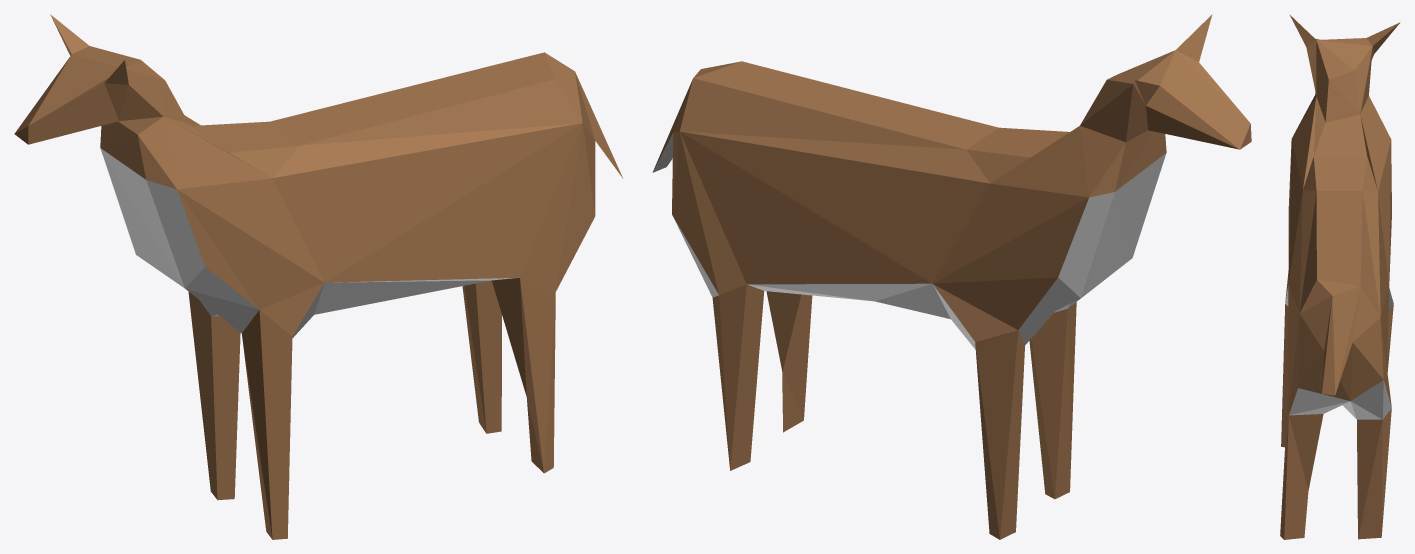
File: Deer.fbx
The picture shows the model from 3 angles, left to right: view 1: azimuth 30°, elevation 25°; view 2: azimuth 150°, elevation 25°; view 3: azimuth 270°, elevation 25°; orthographic projection. The views are drawn at different scales.
Parts seen in each view (by area): view 1: Cube.002; view 2: Cube.002; view 3: Cube.002.
Boxes of the visible parts, x1=… form: Cube.002: x1=14, y1=14, x2=623, y2=539; Cube.002: x1=652, y1=14, x2=1251, y2=539; Cube.002: x1=1280, y1=14, x2=1400, y2=539.
Bounding box in the file's own units: 757 × 624 × 181.
